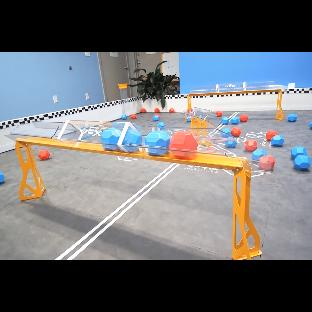V5_BLUE: (144, 127, 168, 155), (291, 146, 310, 169), (286, 113, 297, 122)
V5_RED: (169, 131, 196, 152), (261, 157, 274, 169), (244, 140, 257, 150), (240, 114, 247, 122), (233, 127, 238, 137)
blueingoal: (100, 128, 121, 151), (145, 131, 170, 148), (122, 129, 142, 145), (148, 149, 167, 156), (125, 147, 139, 152)
